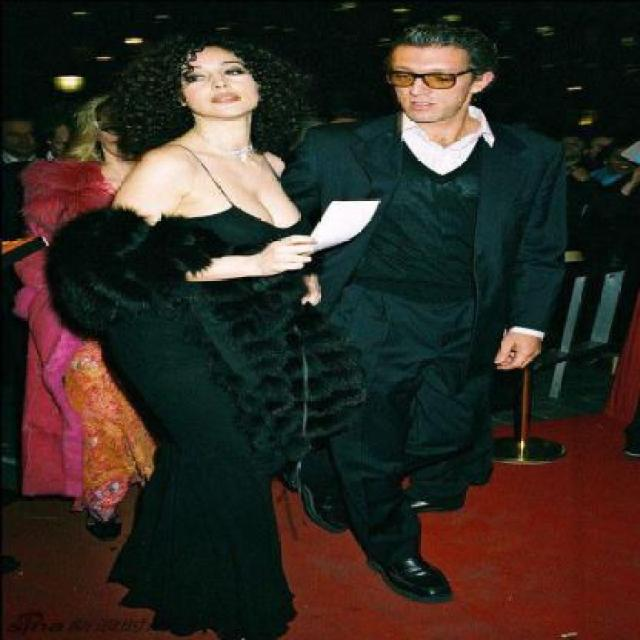Person: (12, 27, 306, 604), (337, 20, 565, 598)
